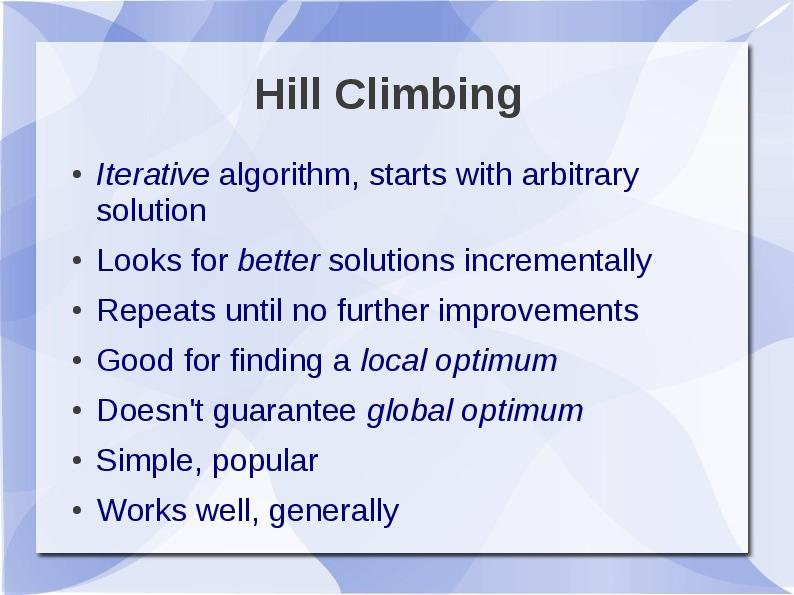paragraph: (67, 142, 700, 540)
title: (242, 58, 542, 130)
